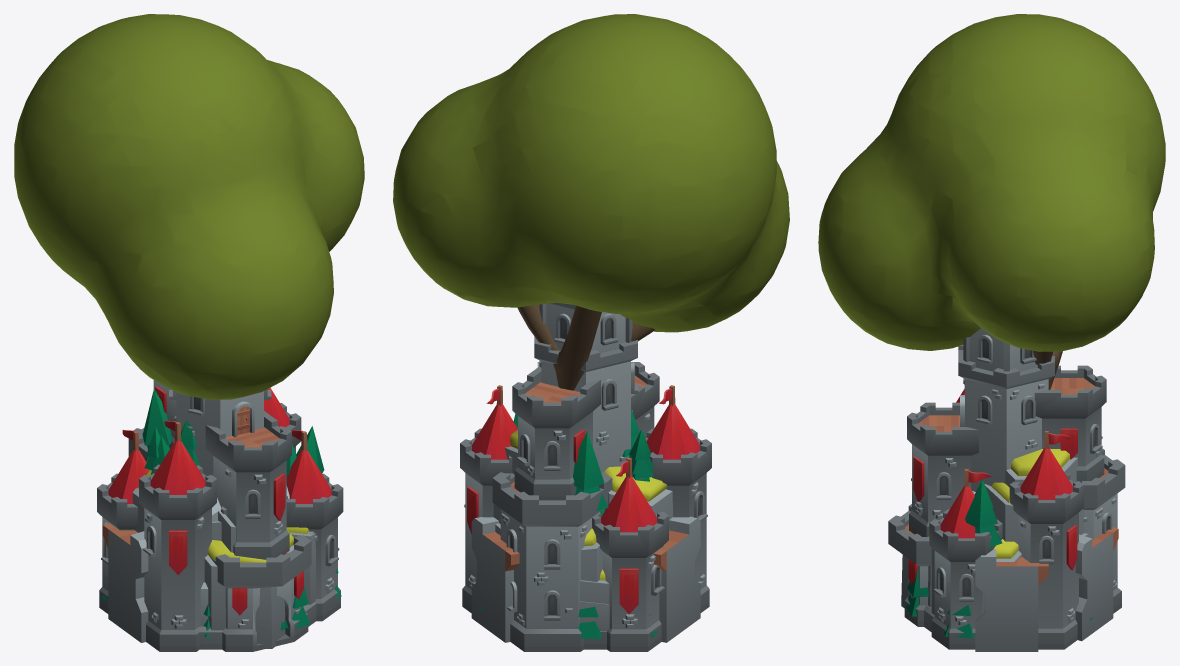
File: kit-later.glb
3 renders of one model, left to right at view 1: azimuth 30°, elevation 25°; view 2: azimuth 150°, elevation 25°; view 3: azimuth 270°, elevation 25°, orthographic. The views are drawn at different scales.
Visible parts, largest first — view 1: Tree_1, building_castle_red, mountain_C_grass_trees, wall_corner_A_outside, mountain_A_grass_trees, wall_straight_gate, trees_A_large; view 2: Tree_1, building_castle_red, wall_corner_A_outside, mountain_C_grass_trees, mountain_A_grass_trees, mountain_B_grass, trees_A_large; view 3: Tree_1, building_castle_red, wall_straight_gate, wall_corner_A_outside, mountain_B_grass, wall_straight, mountain_A_grass_trees, trees_A_large, mountain_C_grass_trees.
Boxes of the visible parts, box(x1,y1,x2,y2) form: Tree_1: box(14, 14, 364, 399); building_castle_red: box(97, 380, 343, 651); mountain_C_grass_trees: box(132, 420, 296, 648); wall_corner_A_outside: box(102, 523, 144, 642); mountain_A_grass_trees: box(142, 389, 324, 604); wall_straight_gate: box(135, 486, 289, 642); trees_A_large: box(101, 568, 341, 637); Tree_1: box(393, 14, 789, 390); building_castle_red: box(460, 302, 711, 651); wall_corner_A_outside: box(471, 517, 700, 642); mountain_C_grass_trees: box(495, 408, 673, 581); mountain_A_grass_trees: box(513, 413, 653, 630); mountain_B_grass: box(493, 429, 609, 604); trees_A_large: box(479, 606, 657, 638); Tree_1: box(818, 14, 1165, 389); building_castle_red: box(888, 324, 1125, 649); wall_straight_gate: box(972, 491, 1048, 644); wall_corner_A_outside: box(1075, 527, 1118, 641); mountain_B_grass: box(983, 449, 1084, 611); wall_straight: box(975, 549, 1048, 651); mountain_A_grass_trees: box(931, 480, 1002, 614); trees_A_large: box(905, 568, 1092, 638); mountain_C_grass_trees: box(901, 479, 1088, 608).
Size of the model in its own units: 3.44 by 5.96 by 3.31.
Materials: 5 (3 with a texture image).
